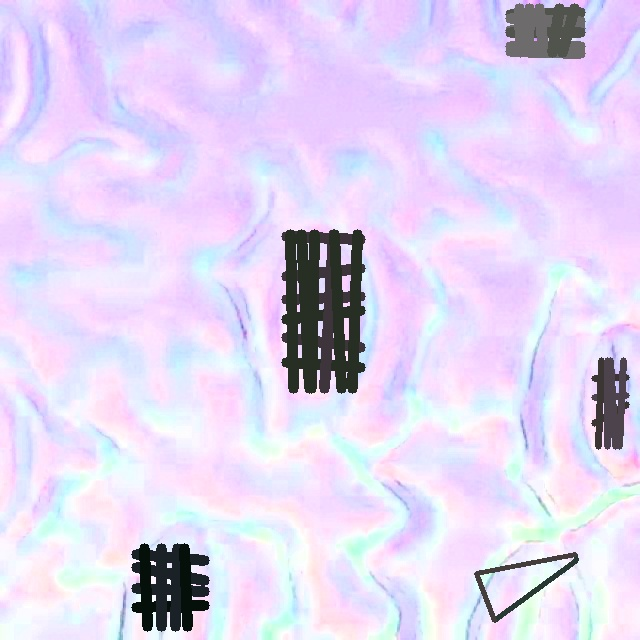close: (131, 543, 209, 630)
open: (281, 229, 365, 392), (475, 552, 577, 622), (506, 3, 584, 57), (591, 357, 629, 448)
